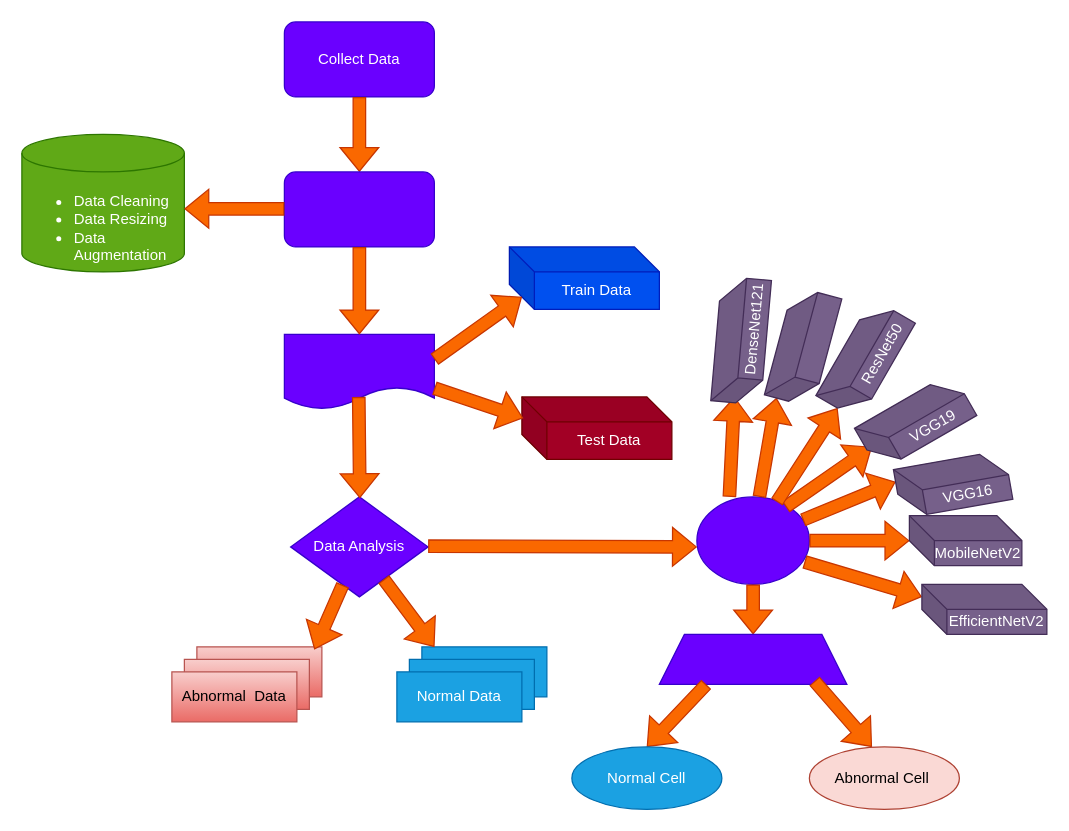
The diagram is 1069 pixels wide and 831 high, and some of its shapes have lost their labels. The centre of each missing label's shape, as x and y in pixels:
Classification Output: the point at 752,658
Data Split: the point at 358,371
Deep Learning Classifier: the point at 752,540
Inception V3: the point at 802,346
Pre Processing: the point at 358,209
